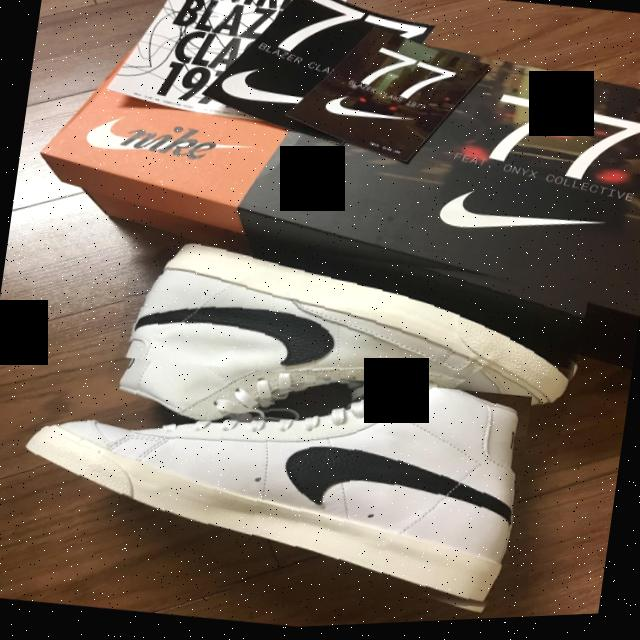shoe: (0, 330, 532, 640), (110, 214, 593, 479)
